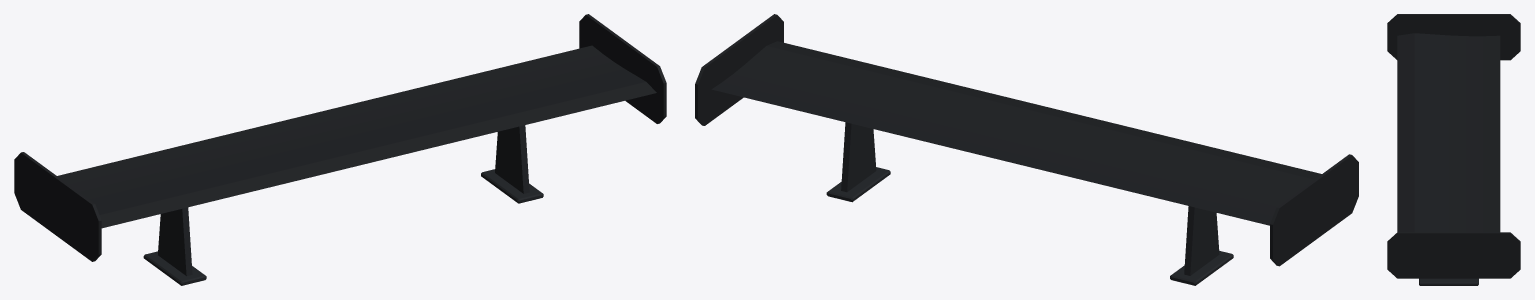
Rendered from ridgeback_4x4.glb.
The picture shows the model from 3 angles, left to right: view 1: azimuth 30°, elevation 25°; view 2: azimuth 150°, elevation 25°; view 3: azimuth 270°, elevation 25°; orthographic projection. The views are drawn at different scales.
Parts seen in each view (by area): view 1: wing_element, model; view 2: wing_element, model; view 3: wing_element, model.
Boxes of the visible parts, bbox=[...] form: wing_element: bbox=[14, 14, 666, 261]; model: bbox=[143, 125, 543, 285]; wing_element: bbox=[695, 14, 1358, 266]; model: bbox=[826, 122, 1233, 285]; wing_element: bbox=[1387, 14, 1520, 278]; model: bbox=[1419, 278, 1478, 285].
Bounding box in the file's own units: 1.52 × 0.298 × 0.39.
2 materials, 1 textured.
